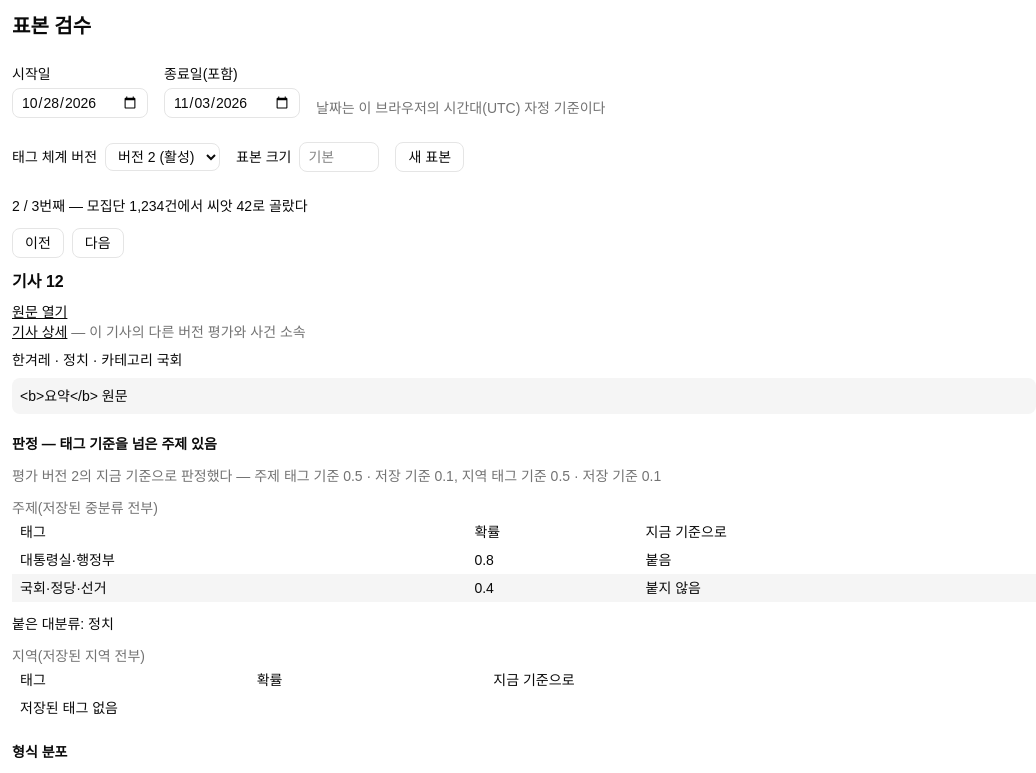
Test: SamplePage › 다음 · 이전이 위치를 바꾼다
Expected: the heading "기사 12" is shown, [12,273,64,290]
Click the button "다음": (98, 243) [72,228,124,258]
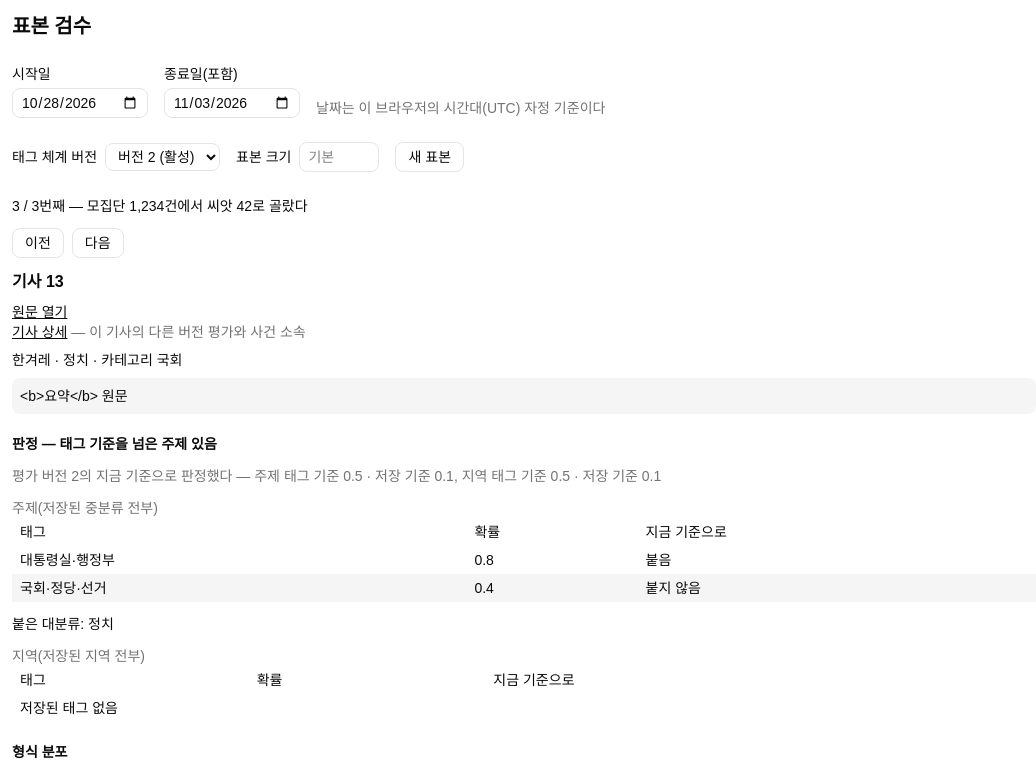
Now the heading "기사 13" is shown, box [12,273,64,290]
Click the button "이전": (38, 243) [12,228,64,258]
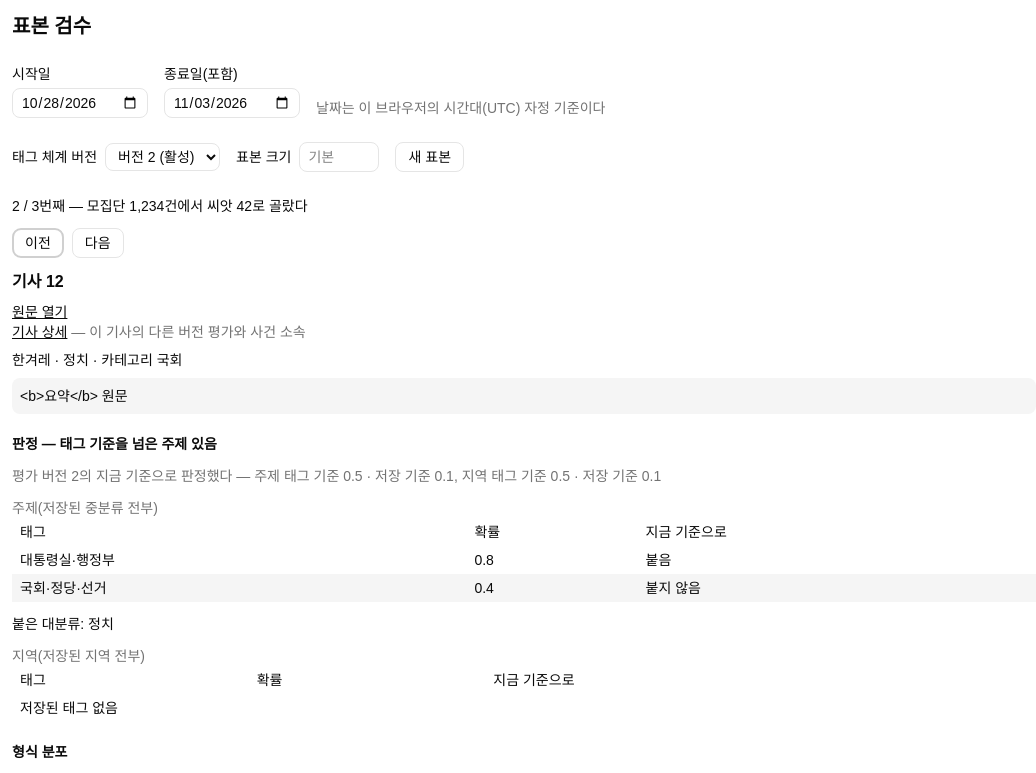
Now the heading "기사 12" is shown, box [12,273,64,290]
